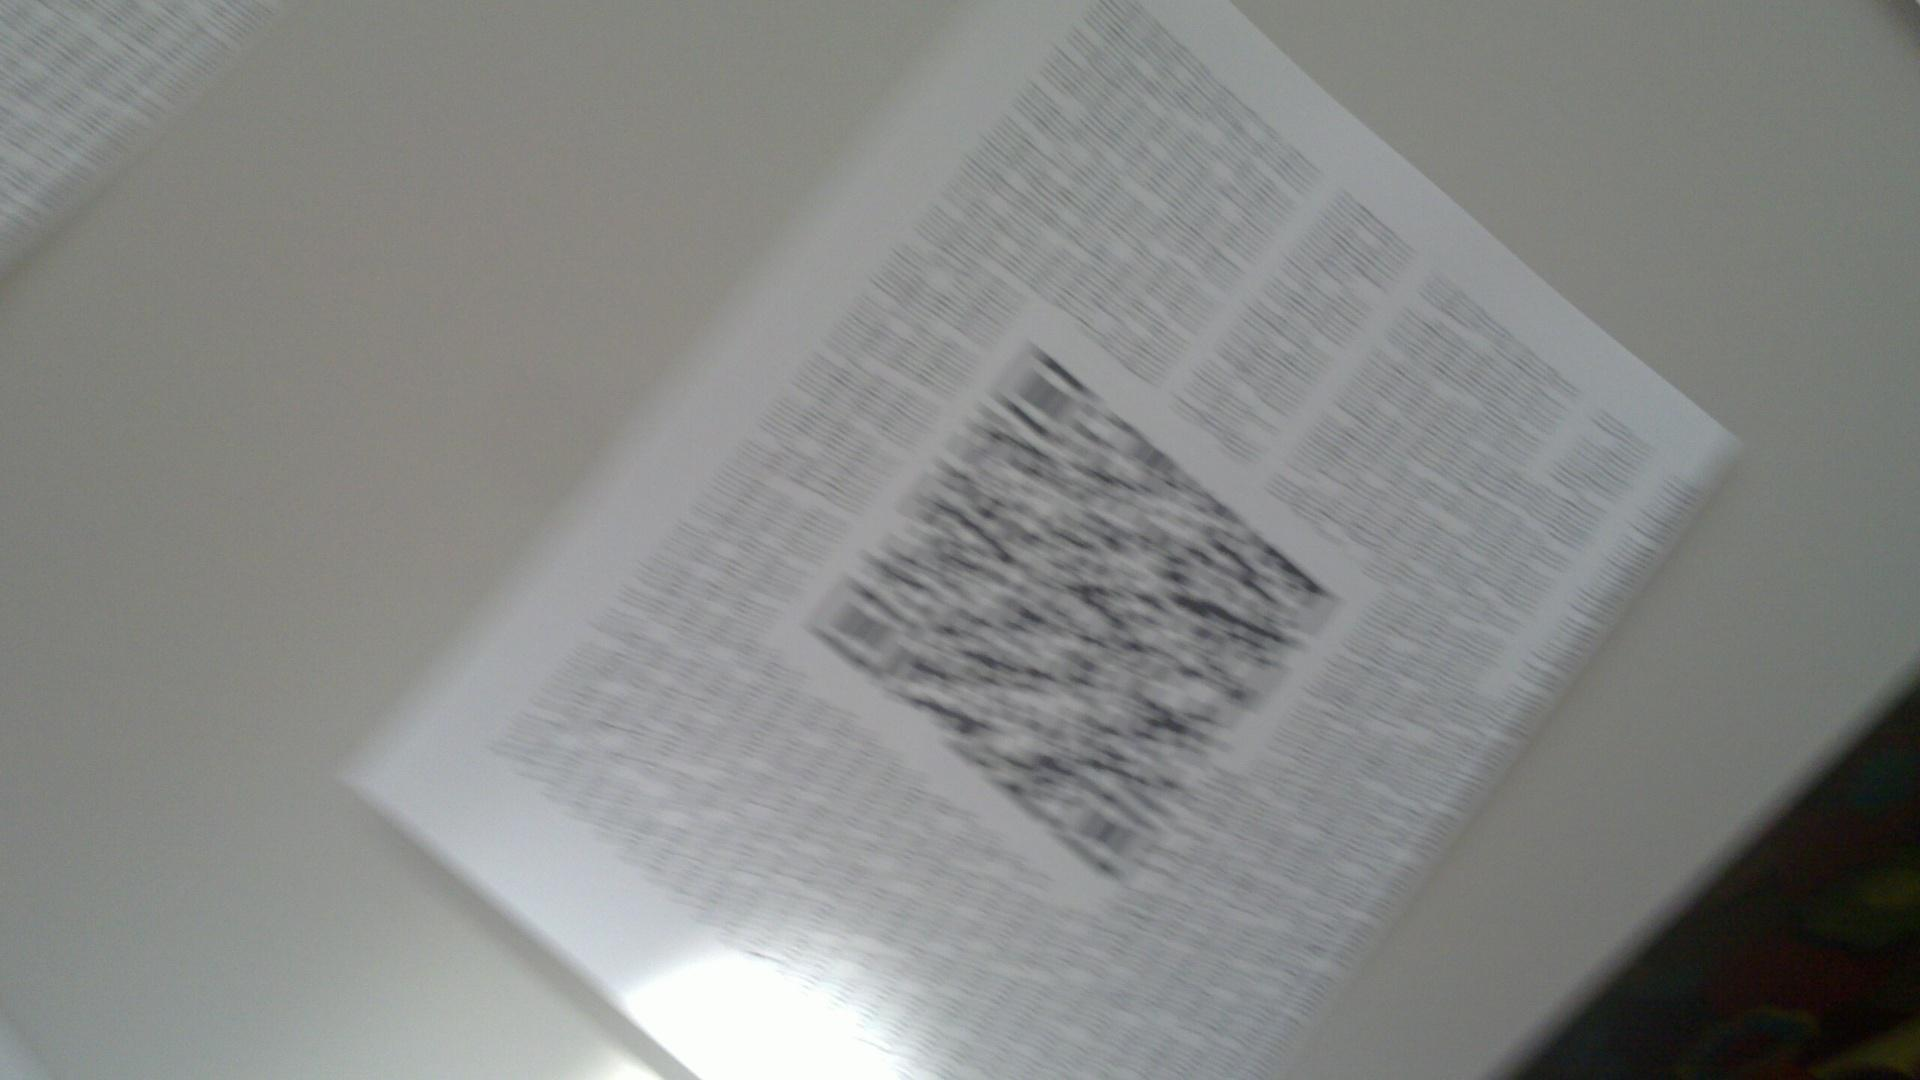Finder pattern: (993, 351, 1083, 435), (1065, 793, 1153, 878), (814, 585, 899, 665)
